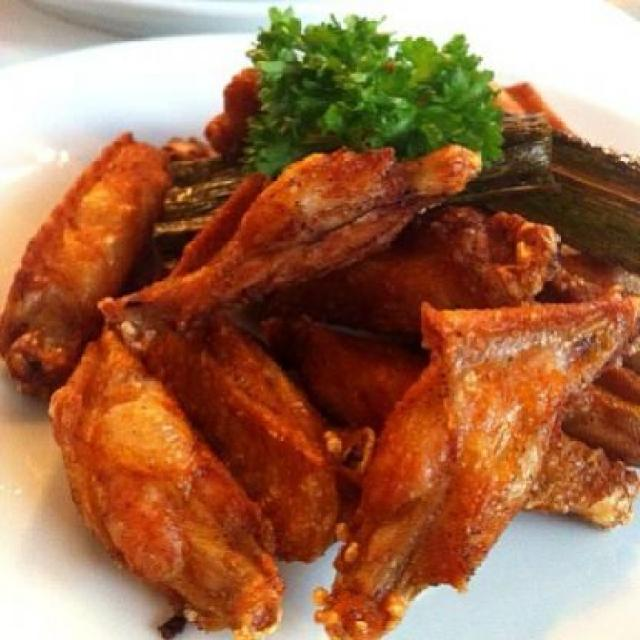Deep fried chicken wing: (24, 115, 632, 600)
